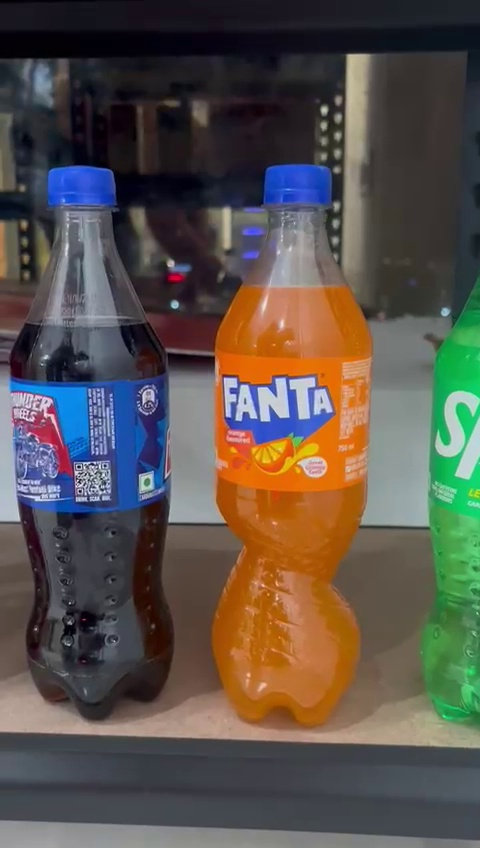Fanta: (211, 155, 378, 726)
Thums-up: (9, 163, 193, 731)
